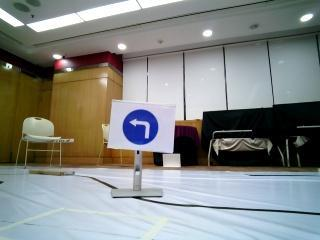left: (117, 105, 167, 149)
